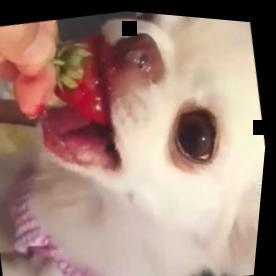nasal_discharge: (117, 34, 167, 79)
